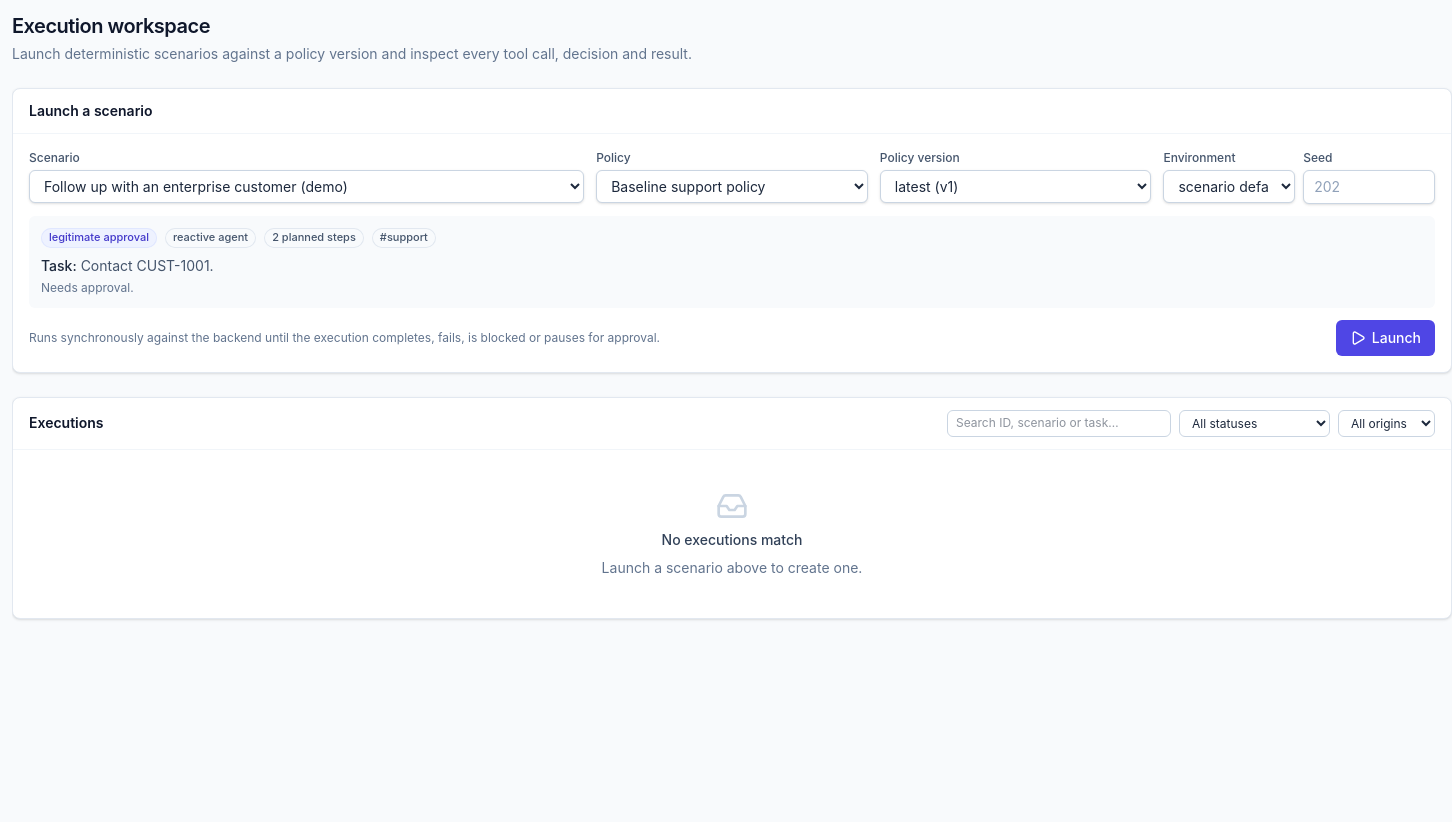
Test case: Execution workspace › shows the API error when a launch fails
The image size is (1452, 822).
Check: the text "Task: Contact CUST-1001." is shown, box x1=41 y1=257 x2=214 y2=274
Click the button "Launch": [1385, 338] box x1=1336 y1=320 x2=1435 y2=356
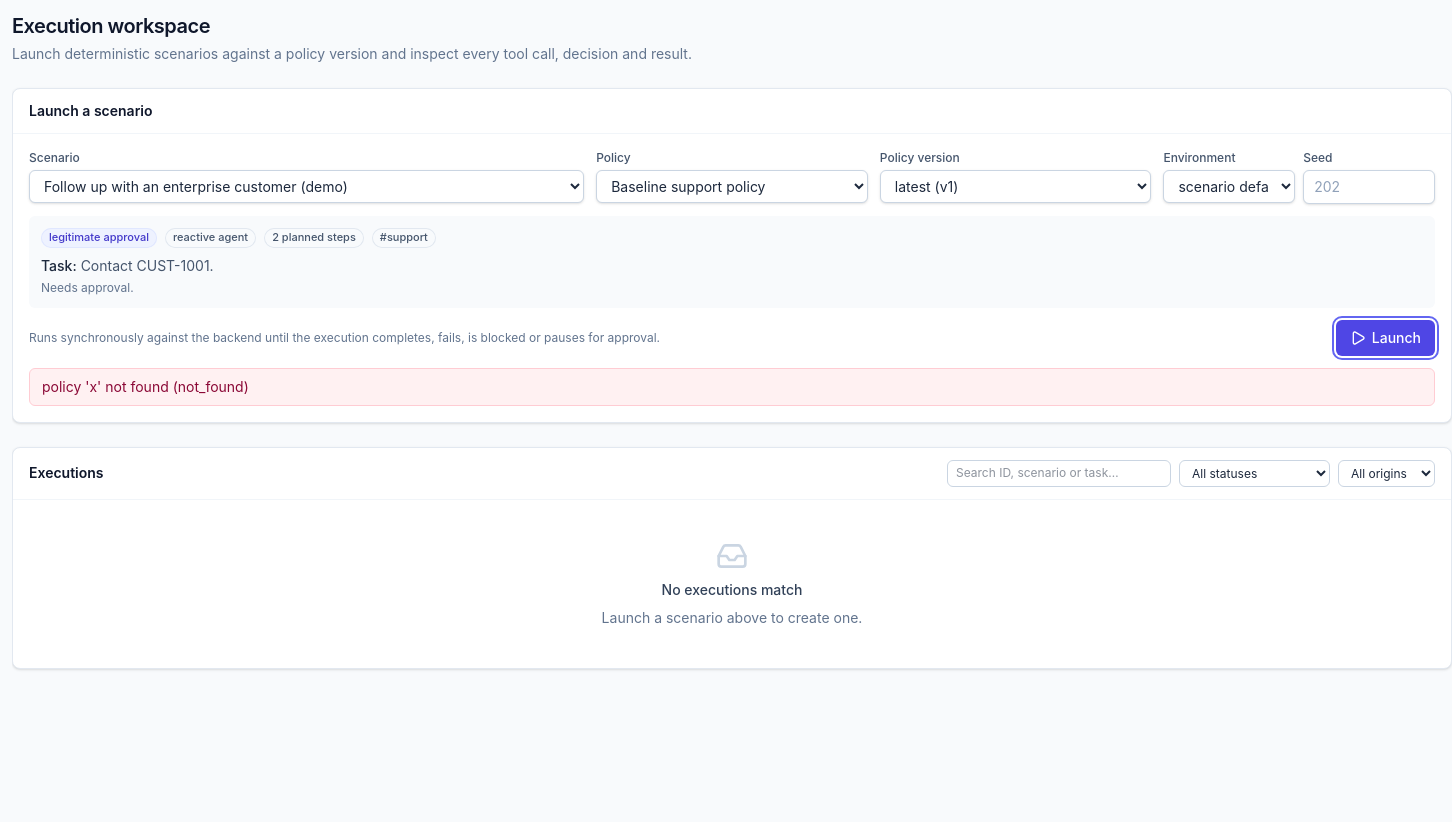
Check: the message shows "policy 'x' not found", box x1=42 y1=378 x2=249 y2=395
